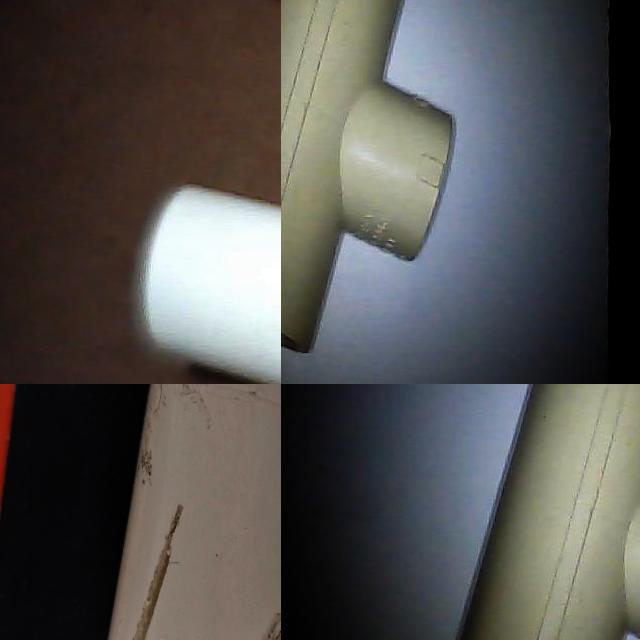Defective: (28, 590, 281, 640)
T Joint: (0, 400, 281, 640), (281, 0, 457, 356), (456, 384, 640, 640), (129, 185, 281, 384)
